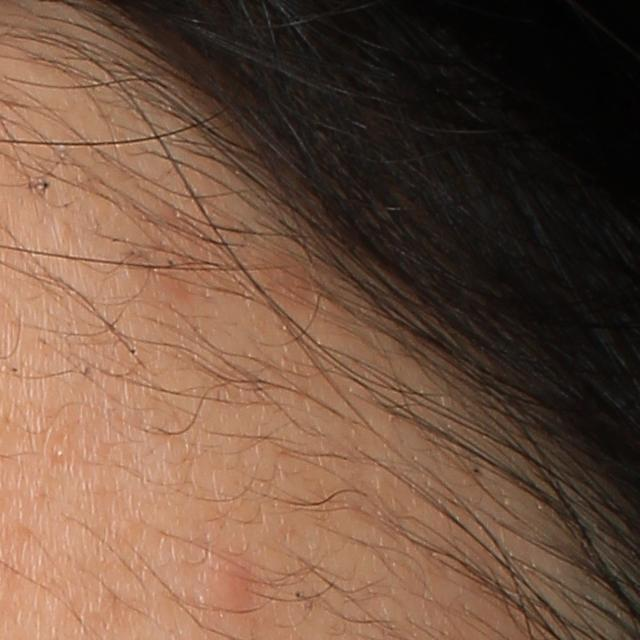papule: (209, 560, 252, 612)
